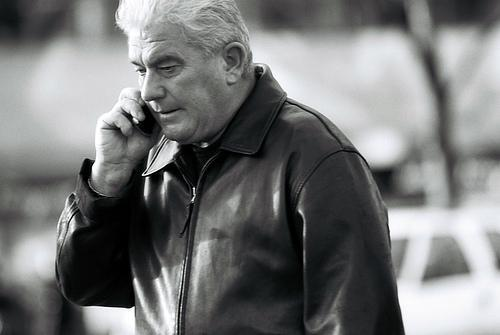car: (386, 203, 500, 334)
